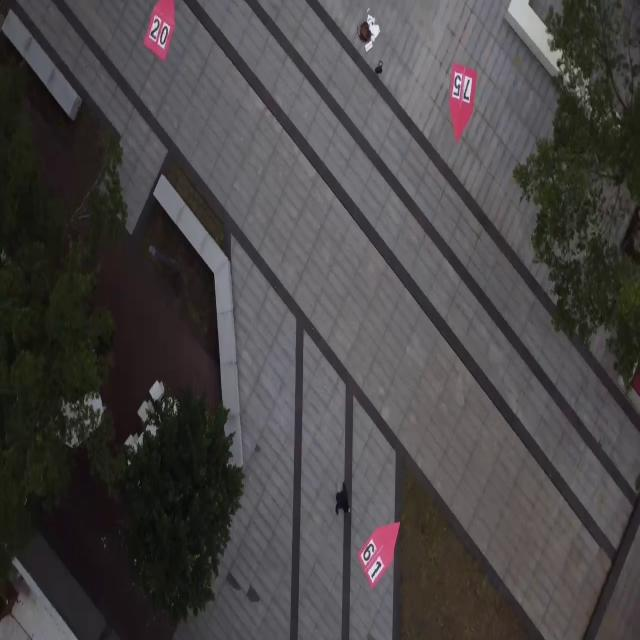-sign-: (358, 520, 401, 590), (449, 62, 477, 143), (144, 0, 176, 61)
